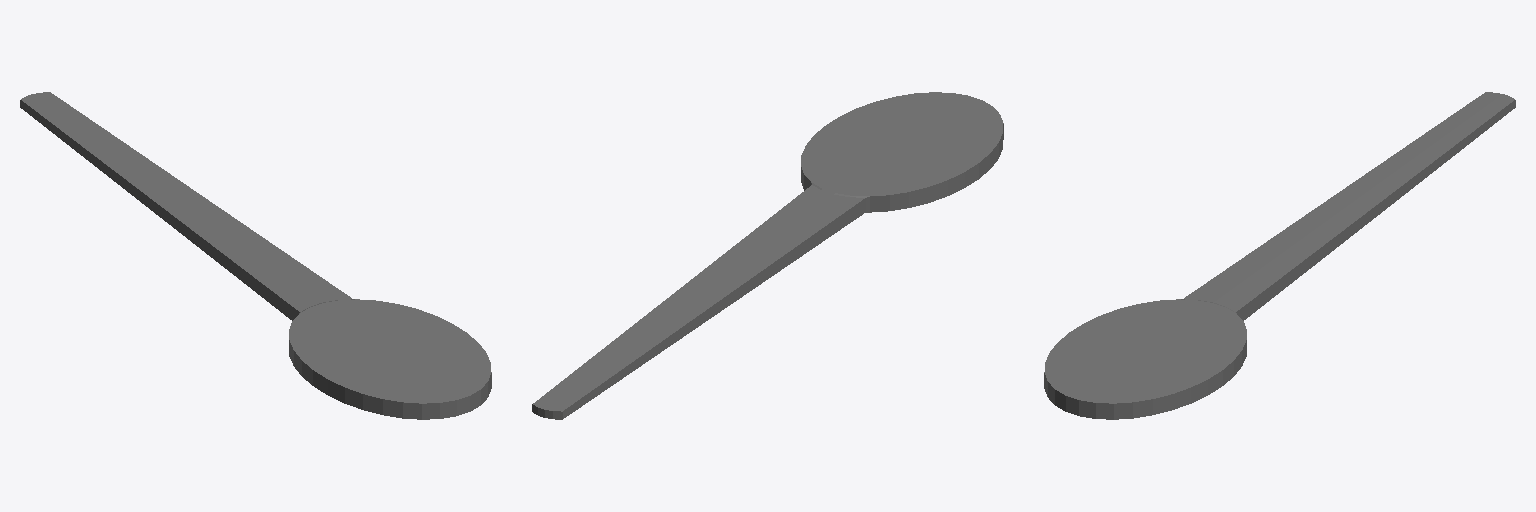
URDF robot description (spoon):
<?xml version="1.0"?>
<robot name="spoon">
  <link name="spoon">
    <visual>
      <origin rpy="-1.5708 0 0" xyz="0 0 0"/>
      <geometry>
        <mesh filename="meshes/spoon.obj" />
      </geometry>
      <material name="gray-10">
        <color rgba="0.5 0.5 0.5 0.1"/>
      </material>
    </visual>
    <collision>
      <origin rpy="-1.5708 0 0" xyz="0 0 0"/>
      <geometry>
        <mesh filename="meshes/vhacd_spoon.obj"/>
      </geometry>
    </collision>
    <inertial>
      <mass value="0.01"/>
      <inertia ixx="1.0" iyy="1.0" izz="1.0" ixy="0" ixz="0" iyz="0"/>
    </inertial>
  </link>
</robot>

--- What the picture shows (computed from the rendered views, not written in the file) ---
Views: 3 orthographic renders of the robot side by side, from view 1: azimuth 30°, elevation 25°; view 2: azimuth 150°, elevation 25°; view 3: azimuth 330°, elevation 25°.
Model spoon with 1 links and 0 joints (none), rooted at spoon, posed all joints at 0.
Visible links, largest first — view 1: spoon; view 2: spoon; view 3: spoon.
Link boxes in pixels (box(x1,y1,x2,y2)): spoon: box(20, 92, 491, 419); spoon: box(532, 92, 1003, 419); spoon: box(1044, 92, 1515, 419).
Size in the robot's own frame: 0.8 by 3.82 by 0.0803 metres.
Meshes: 1 distinct files referenced, 1 mesh visuals loaded (1 OBJ).
